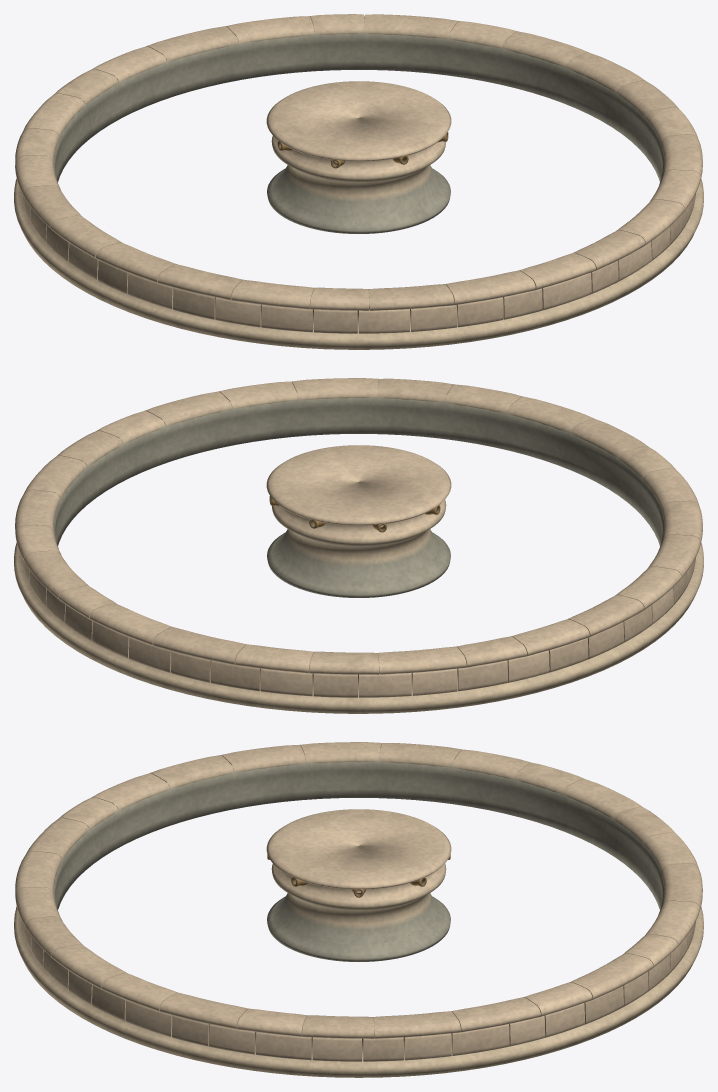
The model's file is fountain-UVCss_ML.glb.
3 views of the same model, one above another, from view 1: azimuth 30°, elevation 25°; view 2: azimuth 150°, elevation 25°; view 3: azimuth 270°, elevation 25° (orthographic).
Parts seen in each view (by area): view 1: fountain-basin; view 2: fountain-basin; view 3: fountain-basin.
Part boxes in pixels (x1,y1,x2,y2): fountain-basin: [14, 14, 703, 349]; fountain-basin: [14, 378, 703, 713]; fountain-basin: [14, 742, 703, 1077].
Bounding box in the file's own units: 9.6 × 1.35 × 9.6.
Materials: 4 (2 with a texture image).
